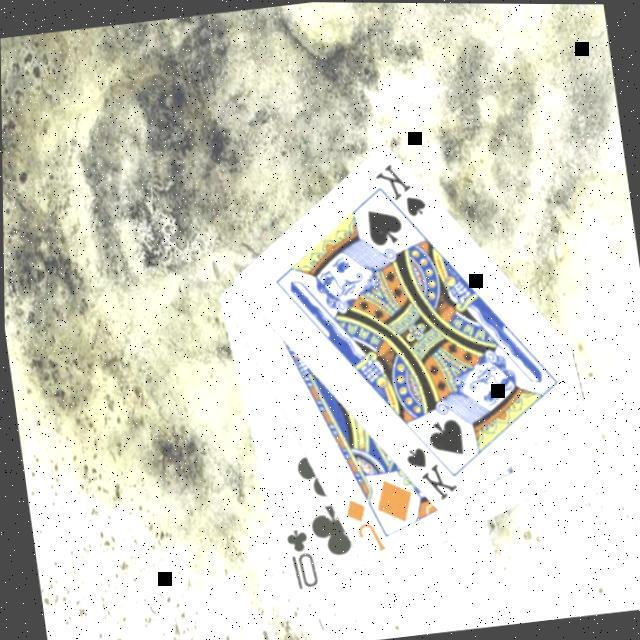10C: (276, 524, 318, 596)
JD: (336, 494, 386, 560)
KS: (366, 157, 429, 237), (396, 440, 458, 508)
